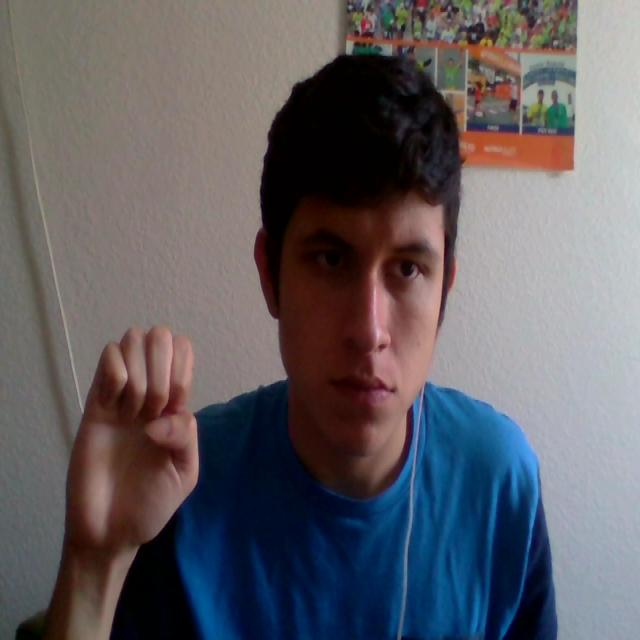E: (55, 260, 228, 610)
